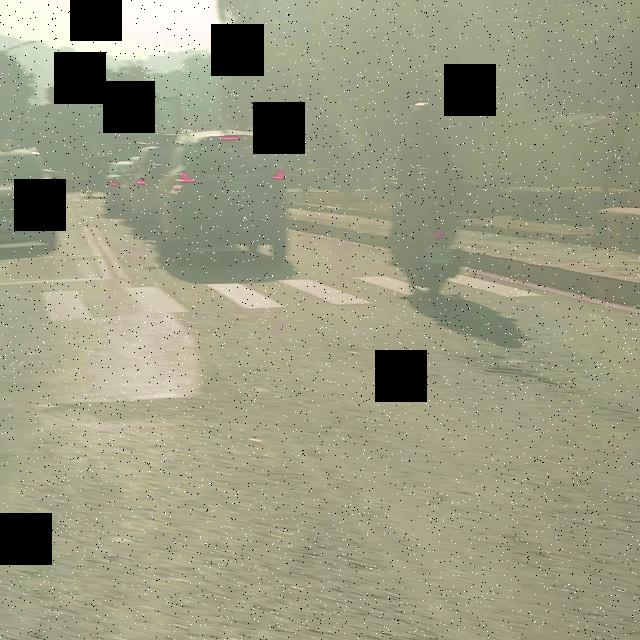zebra_crossing: (462, 122, 476, 415)
